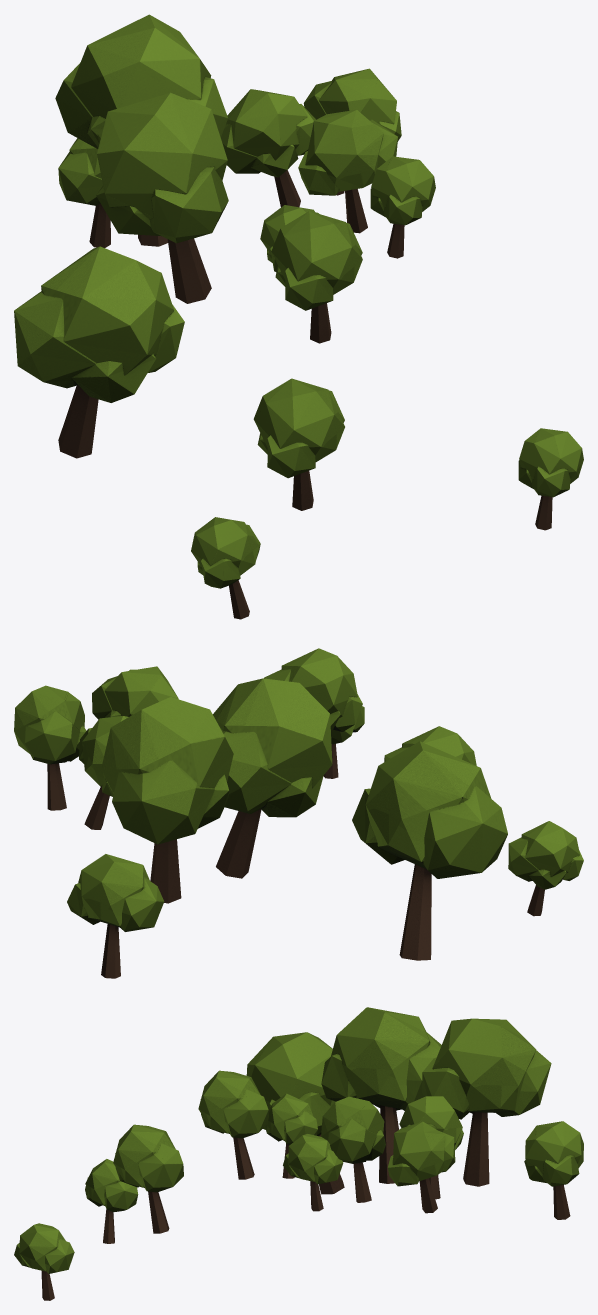
The model's file is trees.glb.
3 views of the same model, one above another, from view 1: azimuth 30°, elevation 25°; view 2: azimuth 150°, elevation 25°; view 3: azimuth 270°, elevation 25° (orthographic). The views are drawn at different scales.
Parts seen in each view (by area): view 1: tree_2.009, tree_2.001, tree_2.005, tree_2.034, tree_2.003, tree_2.002, tree_2.008, tree_2.035, tree_2.036, tree_2.007, tree_2.010, tree_2.006 (+1 smaller); view 2: tree_2.009, tree_2.005, tree_2.001, tree_2.006, tree_2.010, tree_2.035, tree_2.003, tree_2.008, tree_2.002, tree_2.034, tree_2.036; view 3: tree_2.005, tree_2.001, tree_2.009, tree_2.034, tree_2.003, tree_2.008, tree_2.010, tree_2.006, tree_2.036, tree_2.007, tree_2.035, tree_2.004 (+1 smaller).
Boxes of the visible parts, bbox=[...] form: tree_2.009: bbox=[14, 246, 184, 458]; tree_2.001: bbox=[96, 92, 228, 303]; tree_2.005: bbox=[55, 14, 227, 246]; tree_2.034: bbox=[253, 378, 344, 510]; tree_2.003: bbox=[271, 211, 362, 343]; tree_2.002: bbox=[221, 89, 315, 207]; tree_2.008: bbox=[298, 109, 397, 233]; tree_2.035: bbox=[191, 517, 260, 619]; tree_2.036: bbox=[518, 428, 583, 530]; tree_2.007: bbox=[370, 156, 435, 258]; tree_2.010: bbox=[303, 68, 401, 195]; tree_2.006: bbox=[58, 138, 110, 247]; tree_2.009: bbox=[352, 741, 507, 960]; tree_2.005: bbox=[101, 697, 233, 903]; tree_2.001: bbox=[213, 678, 332, 878]; tree_2.006: bbox=[67, 854, 164, 978]; tree_2.010: bbox=[14, 685, 86, 810]; tree_2.035: bbox=[508, 821, 583, 916]; tree_2.003: bbox=[264, 648, 362, 731]; tree_2.008: bbox=[92, 666, 178, 719]; tree_2.002: bbox=[79, 716, 128, 829]; tree_2.034: bbox=[384, 726, 476, 765]; tree_2.036: bbox=[323, 706, 364, 778]; tree_2.005: bbox=[422, 1018, 551, 1186]; tree_2.001: bbox=[321, 1007, 441, 1183]; tree_2.009: bbox=[246, 1032, 344, 1194]; tree_2.034: bbox=[113, 1124, 183, 1233]; tree_2.003: bbox=[198, 1070, 268, 1179]; tree_2.008: bbox=[321, 1096, 385, 1202]; tree_2.010: bbox=[387, 1121, 455, 1213]; tree_2.006: bbox=[524, 1121, 583, 1219]; tree_2.036: bbox=[14, 1223, 74, 1300]; tree_2.007: bbox=[283, 1134, 343, 1211]; tree_2.035: bbox=[85, 1159, 138, 1243]; tree_2.004: bbox=[265, 1093, 317, 1178].
Bounding box in the file's own units: 0.9278 × 0.7437 × 1.36.
2 materials, 2 textured.
